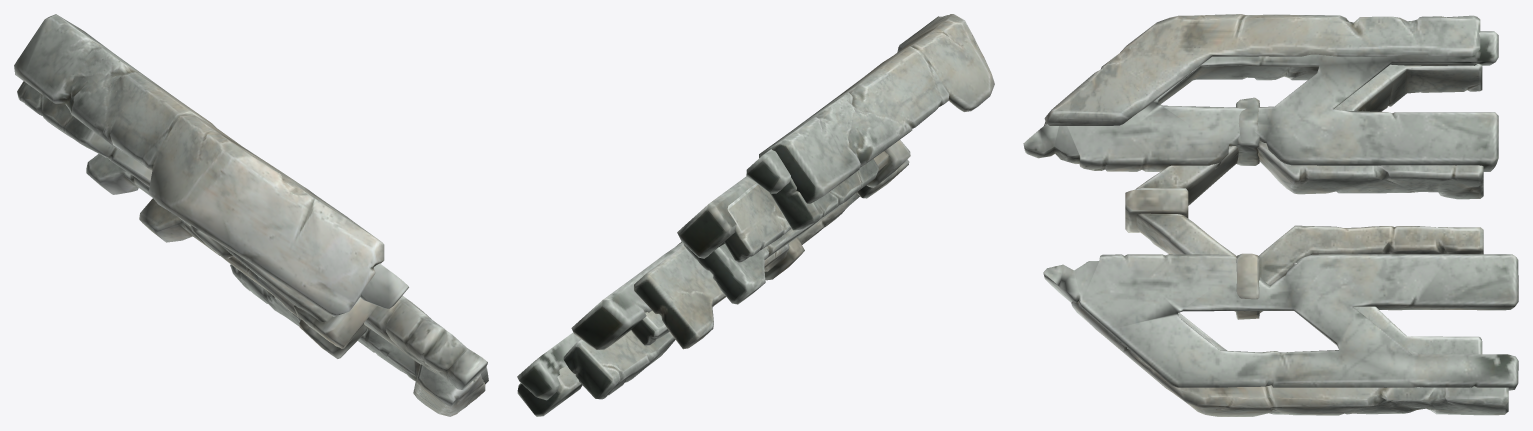
Rendered from Vd_Vulgrim_Merged_B.fbx.
The picture shows the model from 3 angles, left to right: view 1: azimuth 30°, elevation 25°; view 2: azimuth 150°, elevation 25°; view 3: azimuth 270°, elevation 25°; orthographic projection. The views are drawn at different scales.
Parts seen in each view (by area): view 1: Vd_Vulgrim_Merged_B; view 2: Vd_Vulgrim_Merged_B; view 3: Vd_Vulgrim_Merged_B.
Boxes of the visible parts, x1=… form: Vd_Vulgrim_Merged_B: x1=14, y1=14, x2=488, y2=416; Vd_Vulgrim_Merged_B: x1=517, y1=14, x2=994, y2=416; Vd_Vulgrim_Merged_B: x1=1023, y1=14, x2=1518, y2=416.
Size of the model in its own units: 694 by 725 by 1081.
